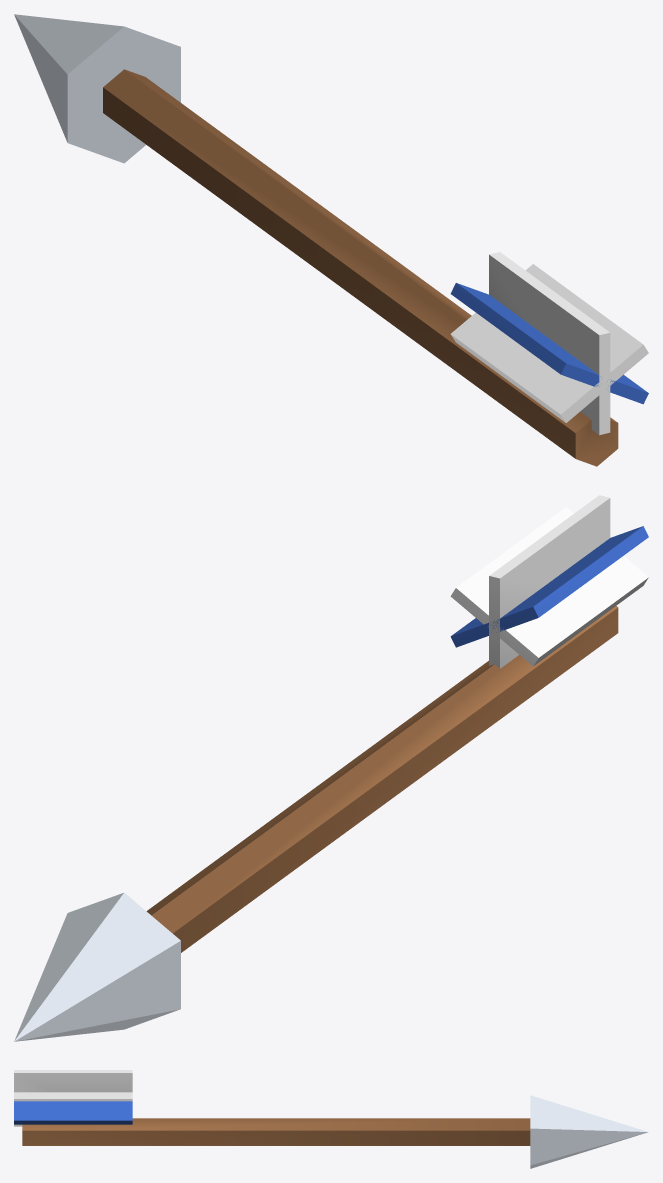
The model's file is arrow.glb.
3 renders of one model, top to bottom at view 1: azimuth 30°, elevation 25°; view 2: azimuth 150°, elevation 25°; view 3: azimuth 270°, elevation 25°, orthographic. The views are drawn at different scales.
Visible parts, largest first — view 1: Arrow; view 2: Arrow; view 3: Arrow.
Part boxes in pixels (bbox=[...]): Arrow: bbox=[14, 14, 648, 466]; Arrow: bbox=[14, 495, 648, 1041]; Arrow: bbox=[14, 1070, 648, 1168].
Bounding box in the file's own units: 0.0416 × 0.0635 × 0.375.
Materials: 1 (1 with a texture image).
